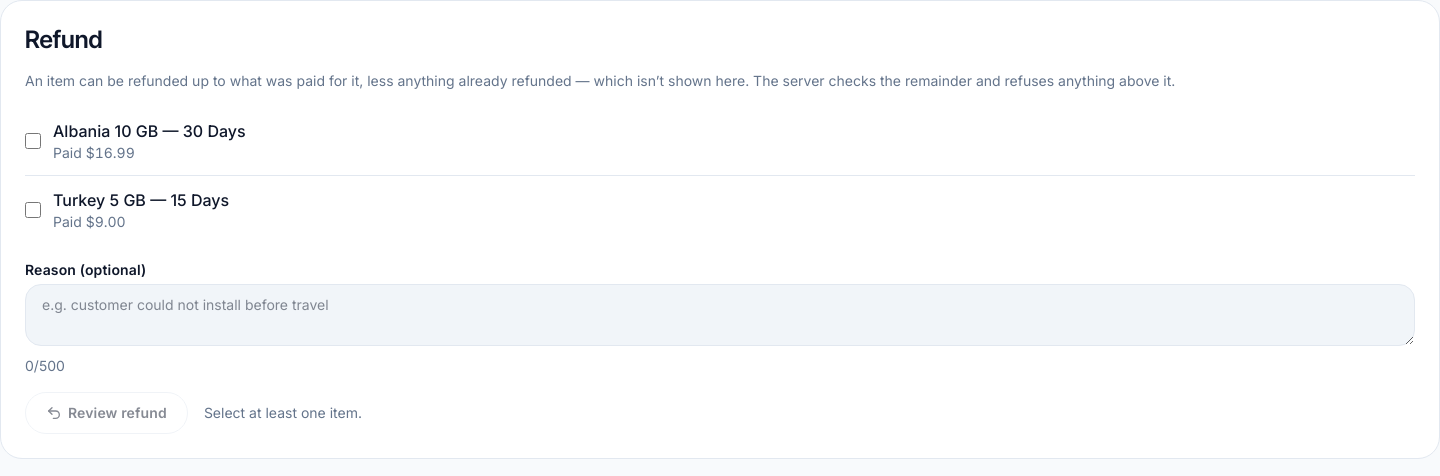
Scenario: building the allocation › drops an item's amount when it is unselected
The width and height of the screenshot is (1440, 476).
Click the 1st checkbox. click: (33, 141)
box: [25,133,41,149]
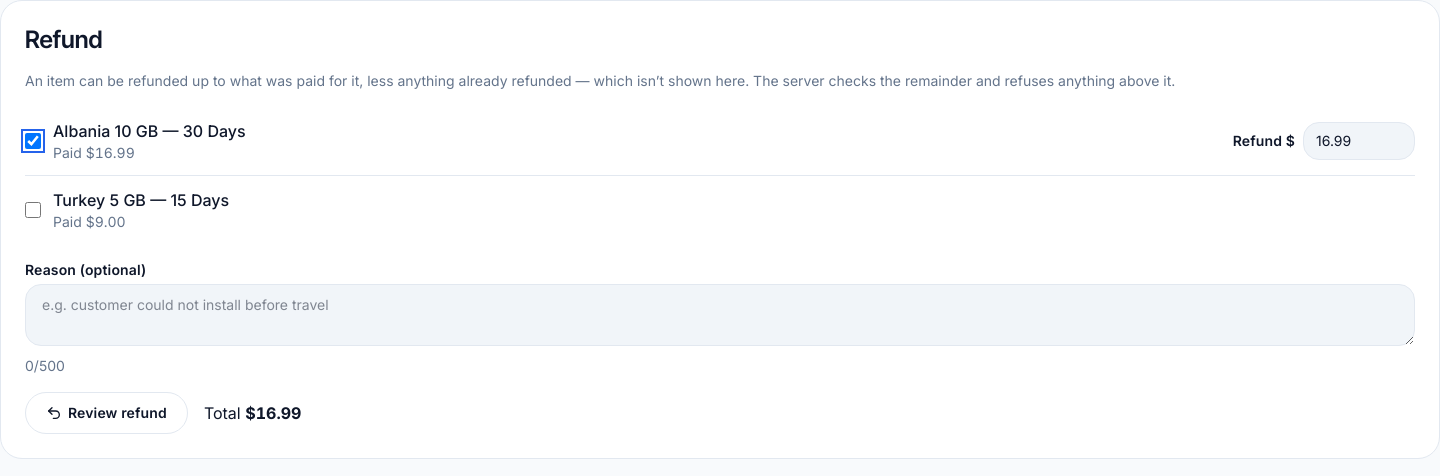
Click the 1st checkbox. click: (33, 141)
box: [25,133,41,149]
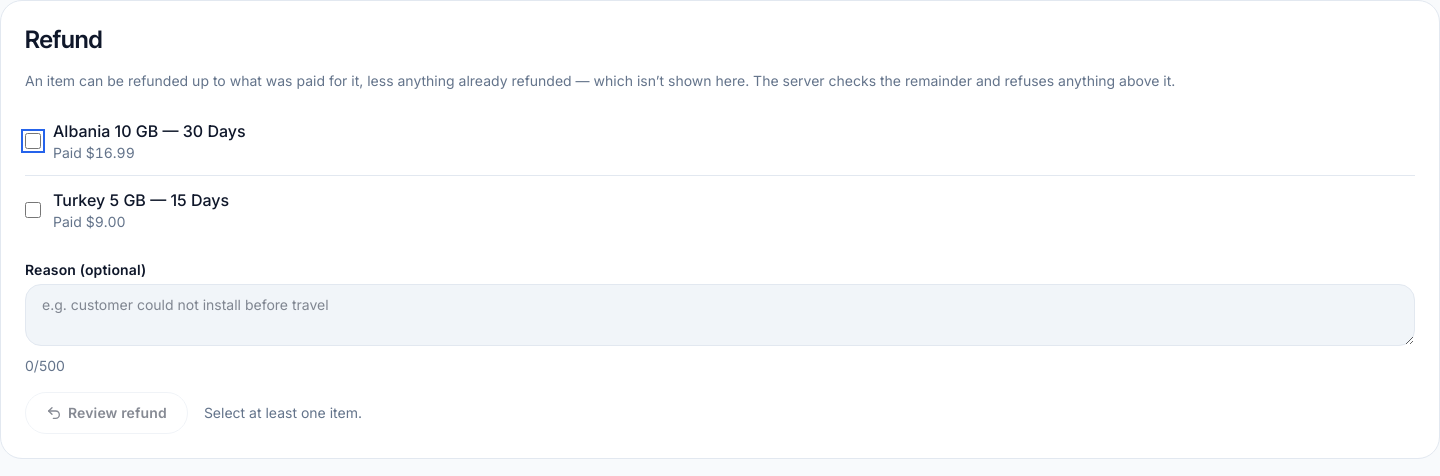
Expected: the button named "review refund" is disabled, [25,392,188,434]
